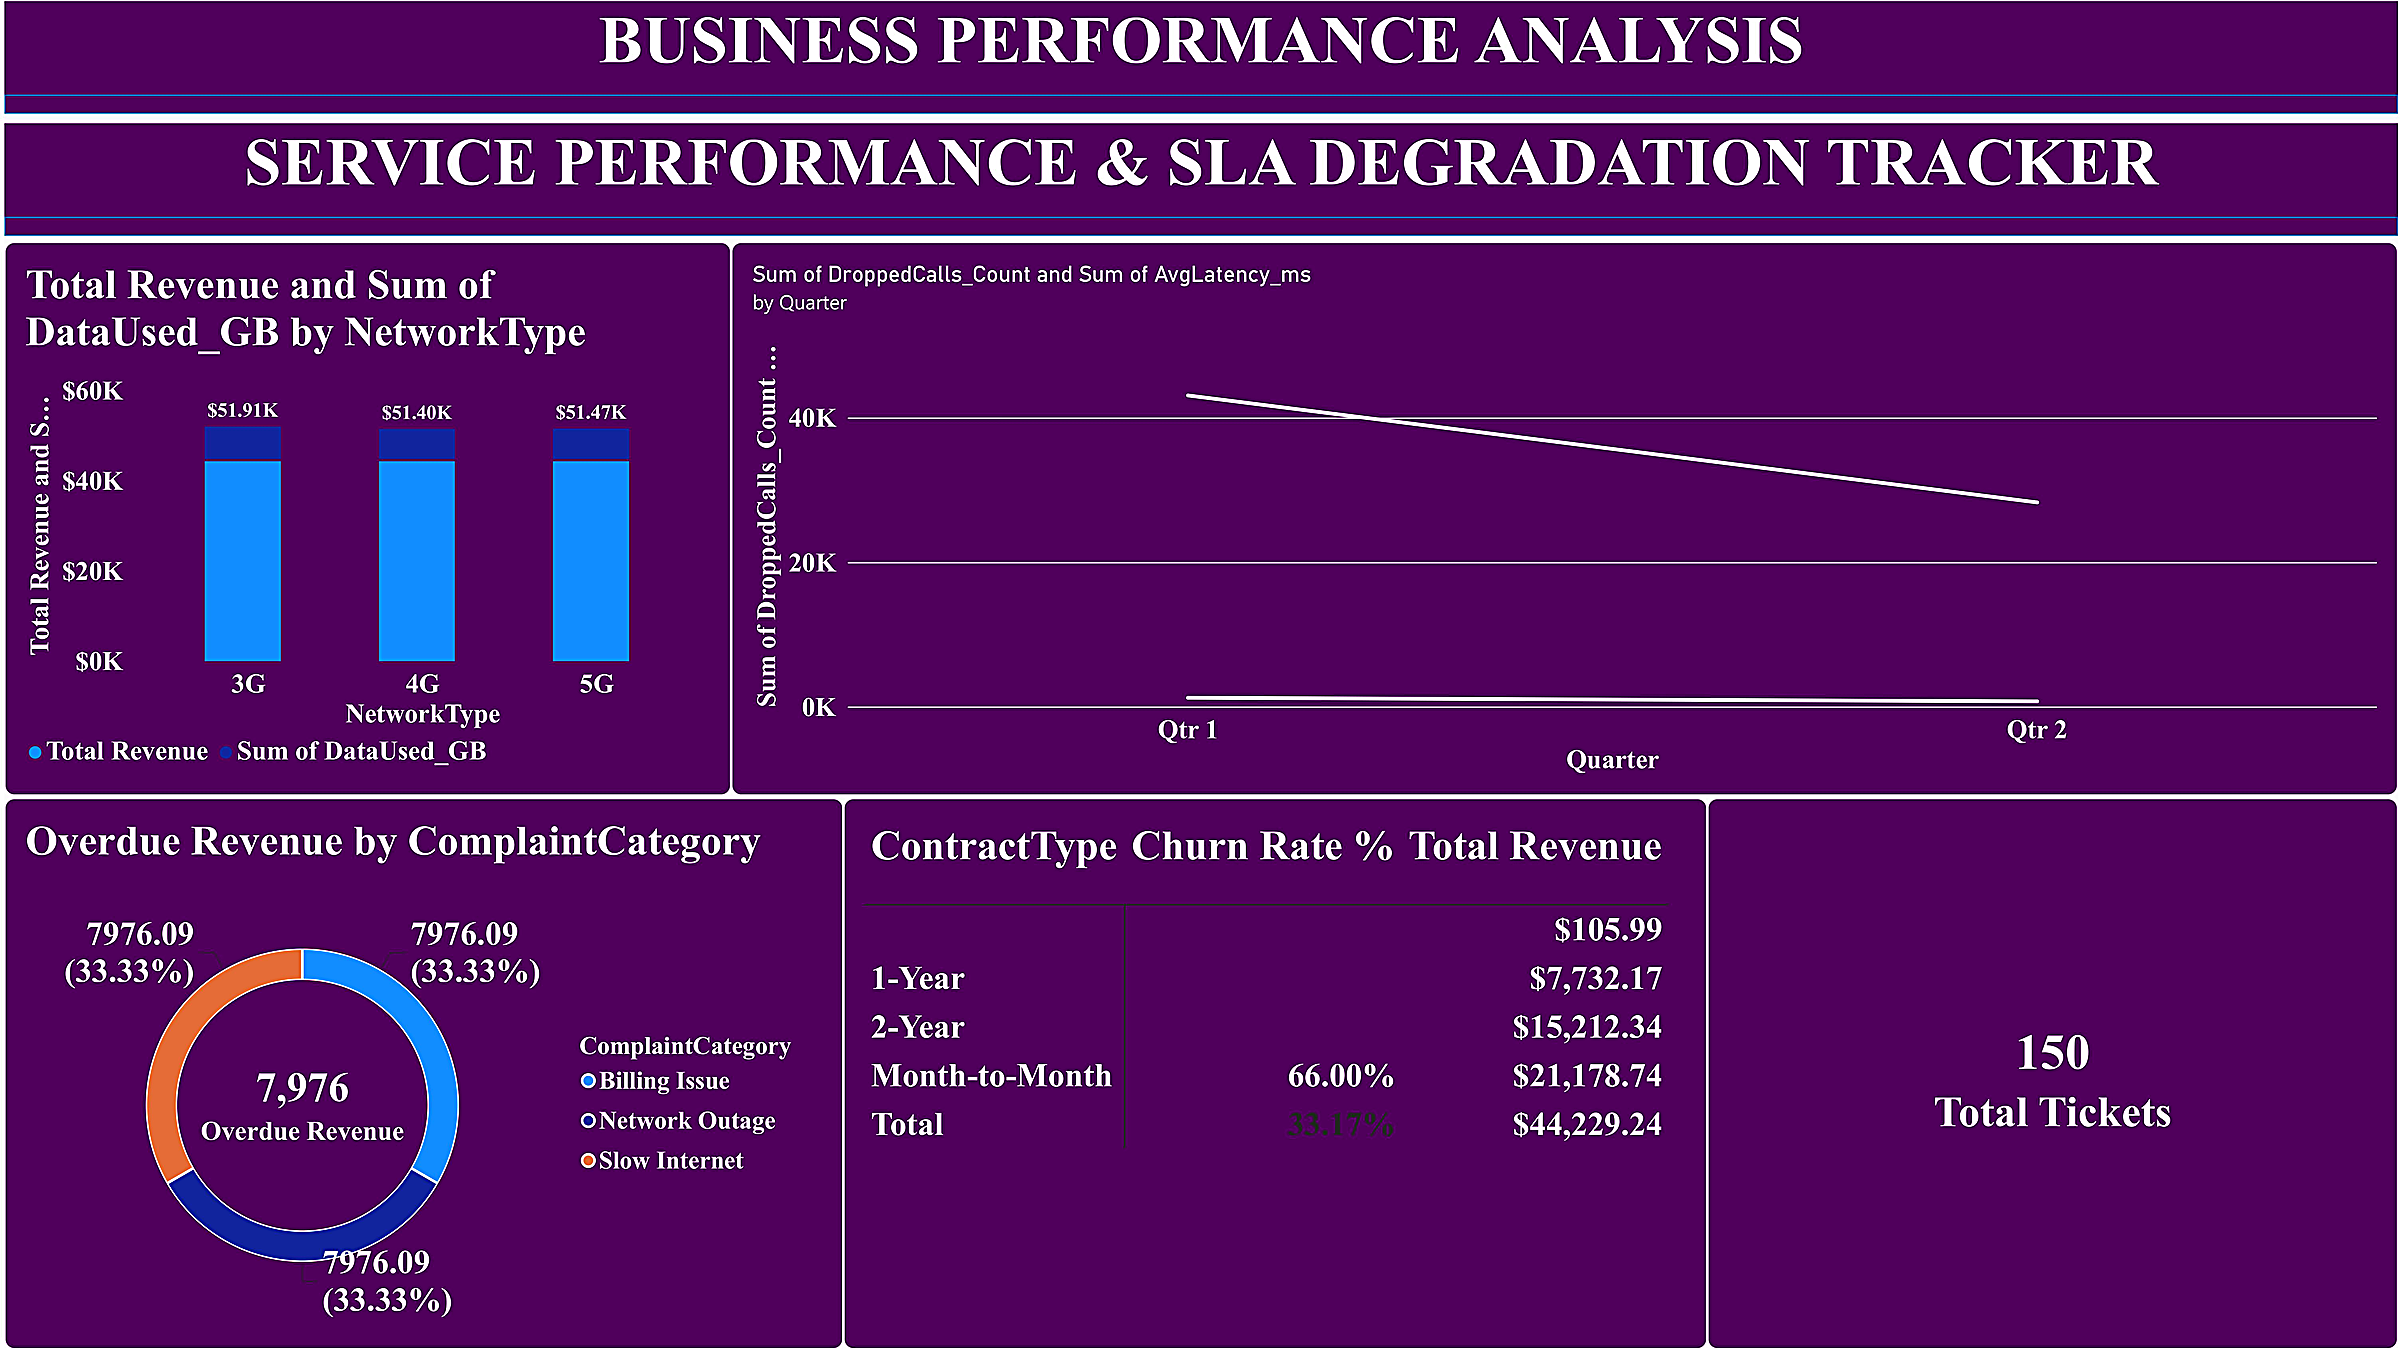

Layout of this report page (visuals, bound fields, positions):
{"tool":"powerbi","page":{"name":"Business Performance Analysis","canvas":[1920,1080],"ordinal":1},"visuals":[{"type":"shape","title":"BUSINESS PERFORMANCE ANALYSIS","box":[0,0,1920.1,90.3],"z":0},{"type":"shape","title":"SERVICE PERFORMANCE & SLA DEGRADATION TRACKER","box":[0,97.6,1920.1,90.3],"z":1000},{"type":"columnChart","fields":{"Y":["_Measures (2).Total Revenue","Sum(Service_Performance.DataUsed_GB)"],"Category":["Service_Performance.NetworkType"]},"box":[0,192.7,583.1,444],"z":2000},{"type":"donutChart","fields":{"Category":["Support_Tickets.ComplaintCategory"],"Y":["_Measures.Overdue Revenue"]},"box":[0,639.2,673.4,441.6],"z":3000},{"type":"lineChart","fields":{"Category":["Customer_Directory.SignupDate.Variation.Date Hierarchy.Year","Customer_Directory.SignupDate.Variation.Date Hierarchy.Quarter","Customer_Directory.SignupDate.Variation.Date Hierarchy.Month","Customer_Directory.SignupDate.Variation.Date Hierarchy.Day"],"Y":["Sum(Service_Performance.DroppedCalls_Count)","Sum(Service_Performance.AvgLatency_ms)"]},"box":[583.1,192.7,1337,444],"z":4000},{"type":"pivotTable","fields":{"Rows":["Customer_Directory.ContractType"],"Values":["_Measures.Churn Rate %","_Measures.Total Revenue"]},"box":[673.4,639.2,692.9,441.6],"z":5000},{"type":"card","fields":{"Values":["_Measures.Total Tickets"]},"box":[1366.3,639.2,553.8,441.6],"z":6000}]}

Visuals, with their boxes in screenshot pixels (x1, y1, x2, y2), scaled from the page's 1920x1080 canvas onto the 2400x1350 screenshot:
"BUSINESS PERFORMANCE ANALYSIS" shape: crop(0, 0, 2399, 113)
"SERVICE PERFORMANCE & SLA DEGRADATION TRACKER" shape: crop(0, 122, 2399, 235)
columnChart - _Measures (2).Total Revenue x Sum(Service_Performance.DataUsed_GB): crop(0, 241, 729, 796)
donutChart - Support_Tickets.ComplaintCategory x _Measures.Overdue Revenue: crop(0, 799, 842, 1349)
lineChart - Customer_Directory.SignupDate.Variation.Date Hierarchy.Year x Customer_Directory.SignupDate.Variation.Date Hierarchy.Quarter: crop(729, 241, 2399, 796)
pivotTable - Customer_Directory.ContractType x _Measures.Churn Rate %: crop(842, 799, 1708, 1349)
card - _Measures.Total Tickets: crop(1708, 799, 2399, 1349)
